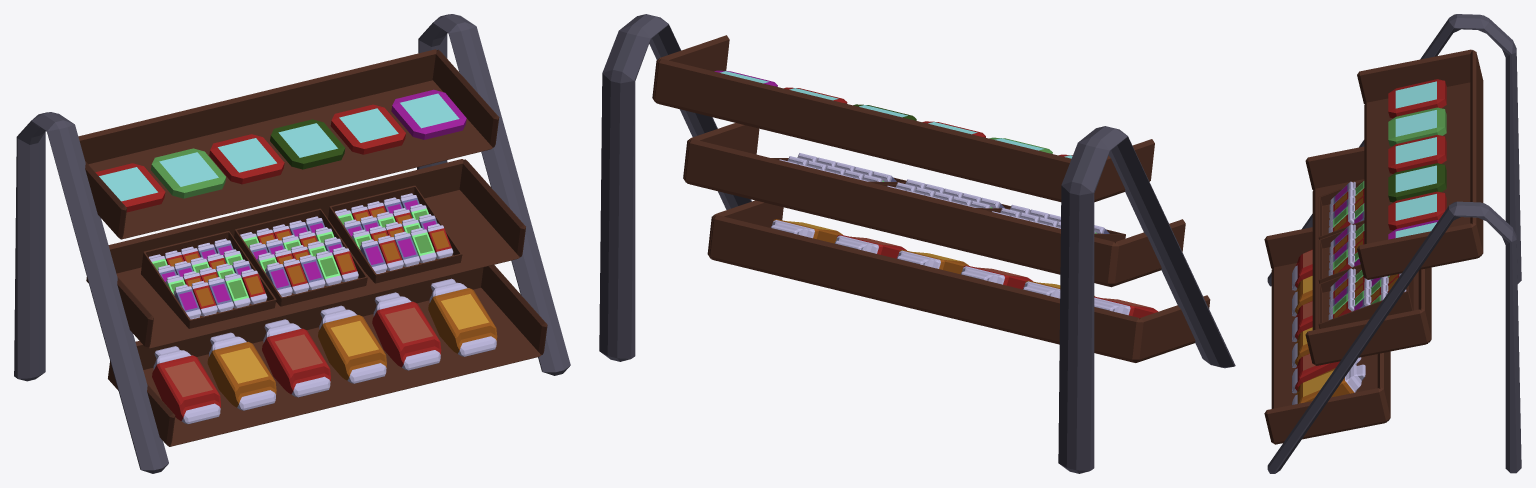
The model's file is SüßesRegal.fbx.
3 renders of one model, left to right at view 1: azimuth 30°, elevation 25°; view 2: azimuth 150°, elevation 25°; view 3: azimuth 270°, elevation 25°, orthographic. The views are drawn at different scales.
Parts seen in each view (by area): view 1: Regal, rigel, chips tüte.003, schokolade, Cube.017; view 2: Regal, chips tüte.003, rigel, schokolade; view 3: Regal, schokolade, rigel, chips tüte.003.
Boxes of the visible parts, bbox=[...] form: Regal: bbox=[14, 14, 570, 473]; rigel: bbox=[141, 185, 462, 328]; chips tüte.003: bbox=[152, 278, 497, 424]; schokolade: bbox=[95, 89, 466, 212]; Cube.017: bbox=[191, 281, 217, 316]; Regal: bbox=[599, 14, 1235, 473]; chips tüte.003: bbox=[770, 219, 1158, 318]; rigel: bbox=[771, 153, 1125, 242]; schokolade: bbox=[714, 70, 1072, 158]; Regal: bbox=[1264, 14, 1521, 473]; schokolade: bbox=[1388, 79, 1446, 239]; rigel: bbox=[1318, 180, 1413, 328]; chips tüte.003: bbox=[1292, 249, 1365, 404].
Size of the model in its own units: 24.98 by 15.58 by 13.53.
